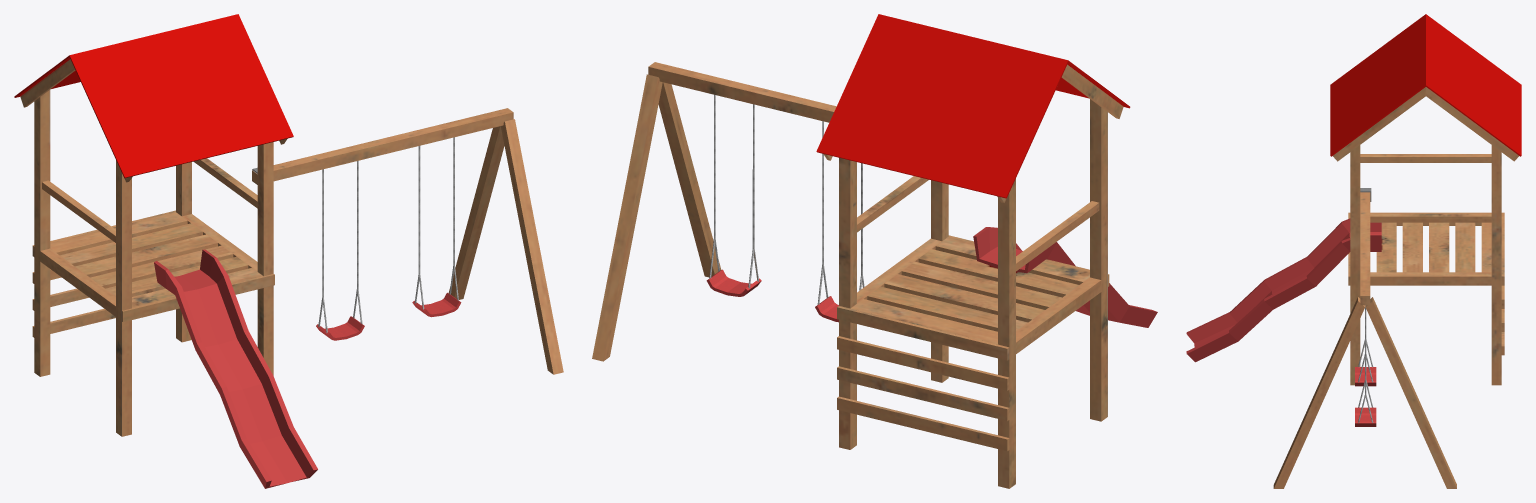
Rendered from PlayGround.fbx.
The picture shows the model from 3 angles, left to right: view 1: azimuth 30°, elevation 25°; view 2: azimuth 150°, elevation 25°; view 3: azimuth 270°, elevation 25°; orthographic projection. The views are drawn at different scales.
Visible parts, largest first — view 1: PlayGround; view 2: PlayGround; view 3: PlayGround.
Boxes of the visible parts, left/top/right/bottom form: PlayGround: left=14, top=14, right=563, bottom=488; PlayGround: left=592, top=14, right=1157, bottom=488; PlayGround: left=1186, top=14, right=1521, bottom=488.
Size of the model in its own units: 402 by 333 by 333.
1 material, 1 textured.
